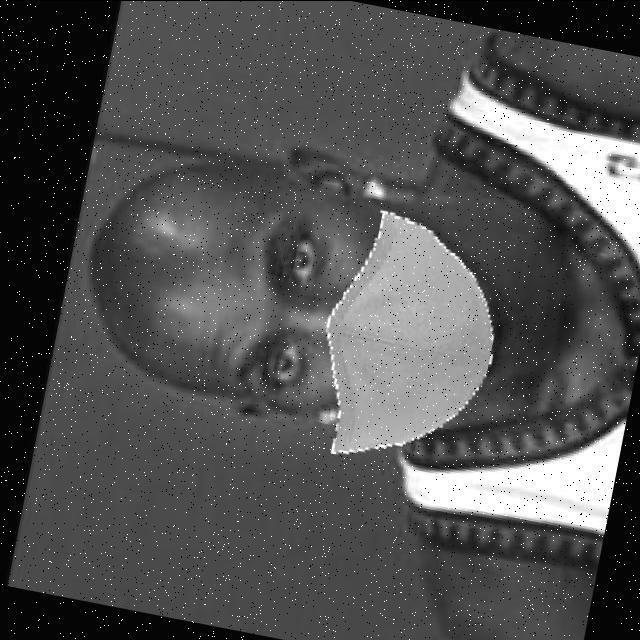mask: (329, 210, 483, 442)
no_gloves: (99, 156, 217, 400)
